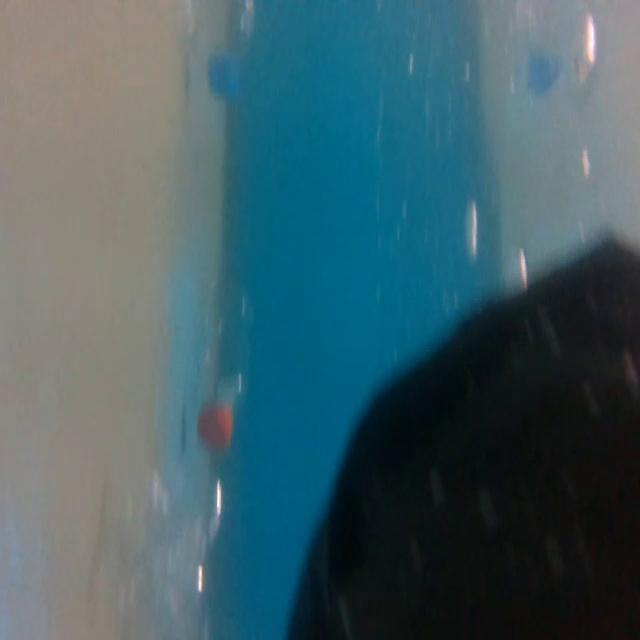plastic bags: (278, 229, 640, 639)
plastic bottle: (129, 458, 213, 640), (192, 273, 262, 445), (174, 0, 269, 110)
